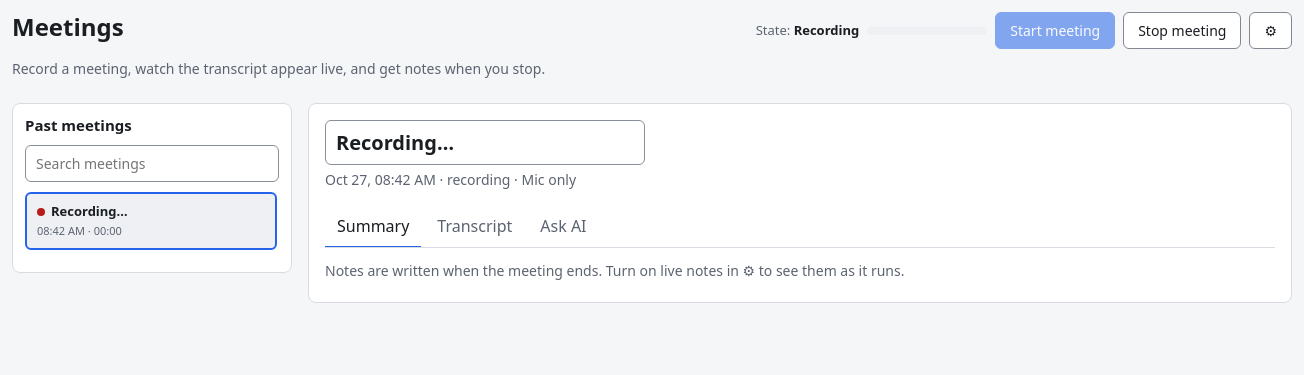
Test: MeetingsPage › labels a live segment with the speaker the backend attributed it to
Step 1. Click the tab "Transcript" → (475, 227), box [425,206,524,248]
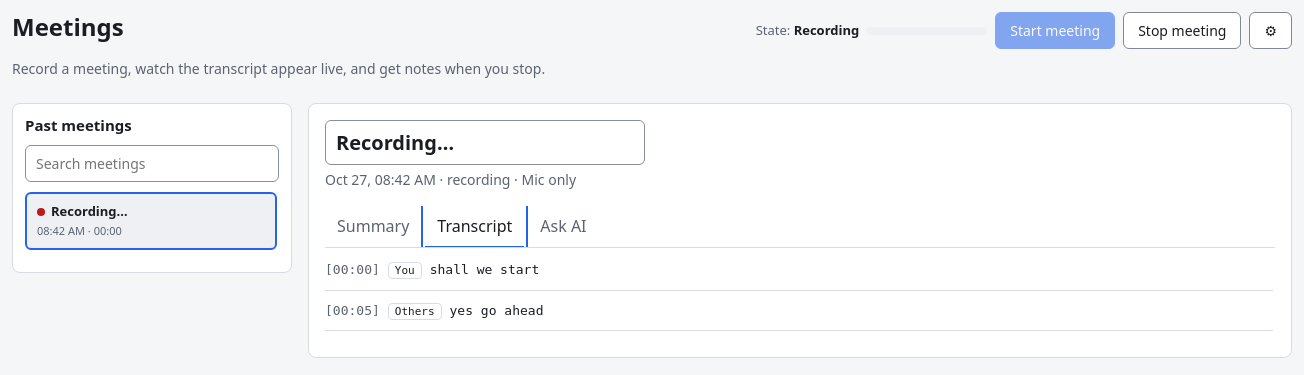
Now the text "shall we start" is shown, box [430,262,539,277]
Now the text "You" is shown, box [388,262,422,279]
Now the text "Others" is shown, box [388,303,442,320]
